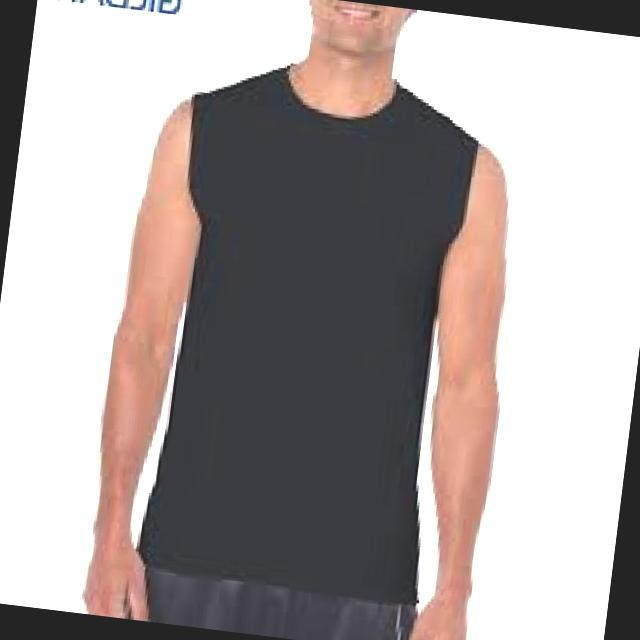no_vest: (132, 52, 484, 602)
